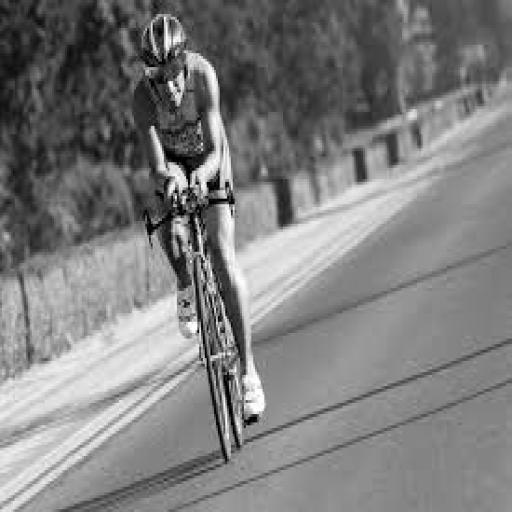cycling: (129, 11, 268, 428)
